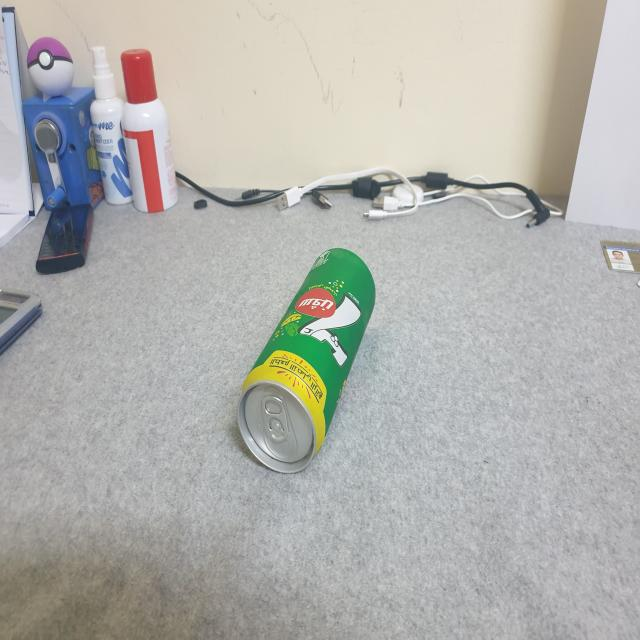non-organic waste: (227, 240, 379, 476)
